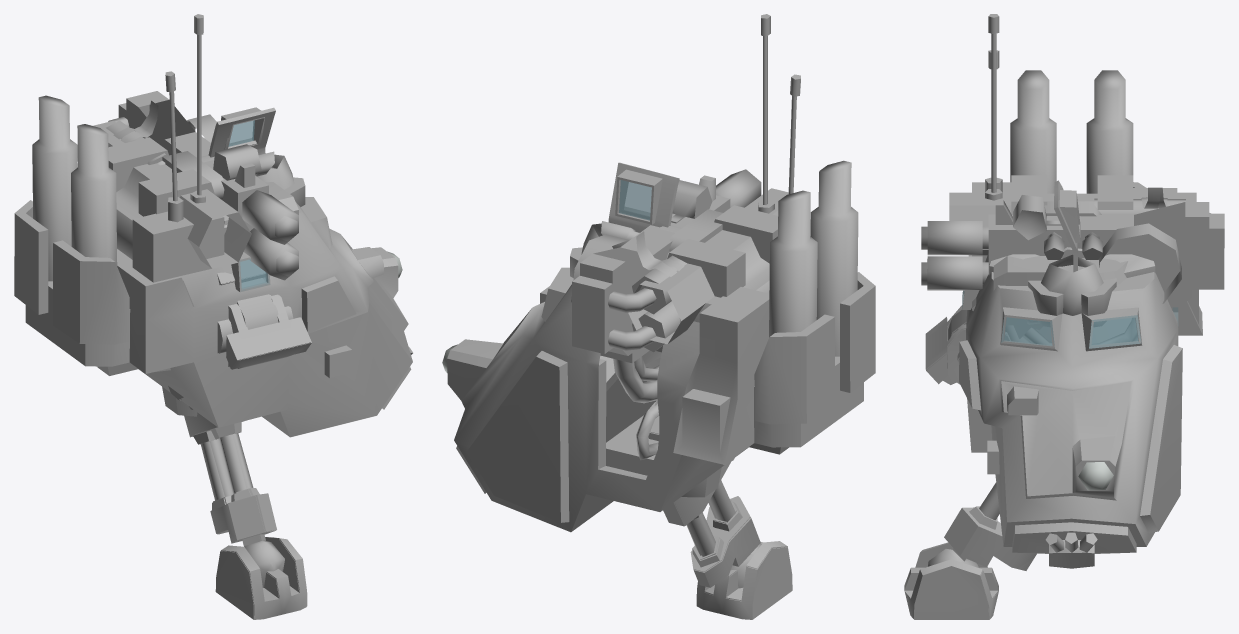
The model's file is sentinel_melta-1g1z50n.glb.
The picture shows the model from 3 angles, left to right: view 1: azimuth 30°, elevation 25°; view 2: azimuth 150°, elevation 25°; view 3: azimuth 270°, elevation 25°; orthographic projection. The views are drawn at different scales.
Visible parts, largest first — view 1: turret, turret_interior, body, gun, legr3, legl2, legl3, legl4, legr4, door, legl1, legr2; view 2: turret, turret_interior, gun, body, legr3, legr4, door, legl3, legl4; view 3: turret, turret_interior, gun, body, legl4, legl3, gun_rot_melta, door, legr2, legl2, legl1.
Part boxes in pixels (x1,y1,x2,y2): turret: (14, 14, 412, 437); turret_interior: (14, 96, 412, 435); body: (77, 121, 305, 268); gun: (106, 91, 298, 280); legr3: (190, 421, 275, 587); legl2: (168, 294, 310, 409); legl3: (184, 412, 284, 571); legl4: (221, 537, 307, 619); legr4: (215, 537, 306, 619); door: (208, 107, 275, 157); legl1: (201, 155, 278, 329); legr2: (179, 295, 311, 409); turret: (442, 14, 875, 531); turret_interior: (447, 161, 875, 531); gun: (571, 169, 761, 403); body: (570, 188, 810, 352); legr3: (636, 415, 760, 588); legr4: (696, 547, 792, 619); door: (608, 162, 679, 232); legl3: (636, 404, 761, 571); legl4: (696, 541, 791, 600); turret: (959, 14, 1202, 568); turret_interior: (959, 70, 1202, 553); gun: (921, 187, 1224, 345); body: (949, 175, 1196, 326); legl4: (904, 542, 998, 619); legl3: (928, 482, 1036, 568); gun_rot_melta: (993, 256, 1061, 290); door: (1054, 180, 1080, 272); legr2: (926, 318, 1010, 384); legl2: (925, 305, 1007, 369); legl1: (948, 216, 1084, 340).
Bounding box in the file's own units: 46.98 × 70.9 × 35.97.
